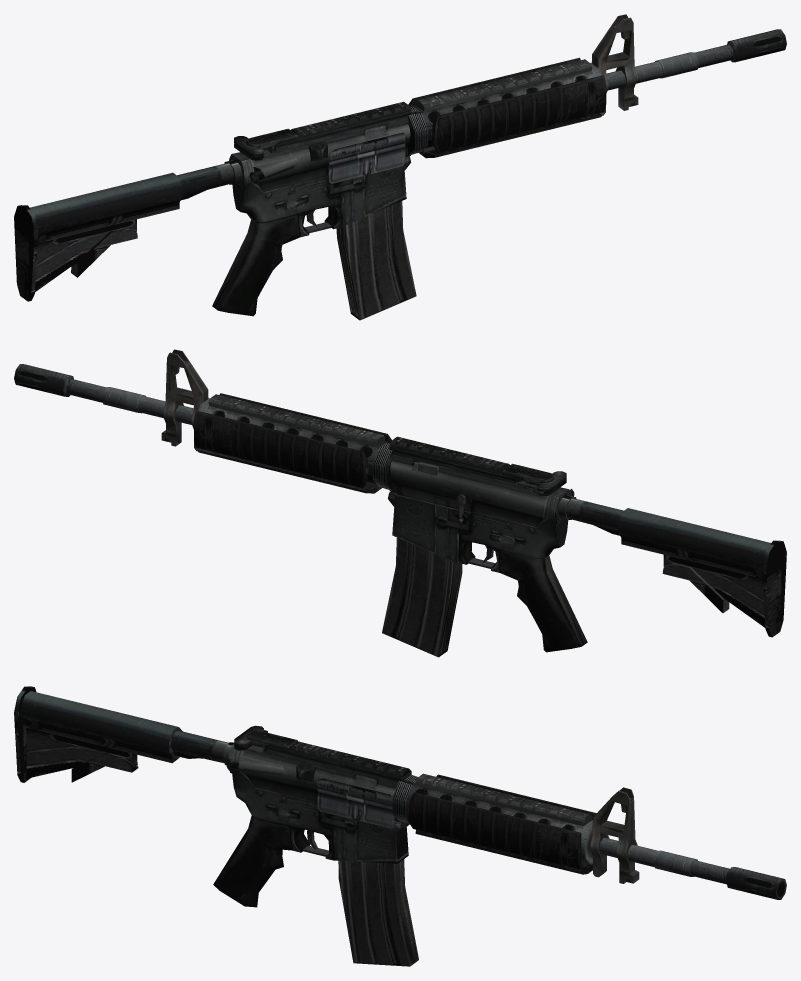
3 renders of one model, top to bottom at view 1: azimuth 30°, elevation 25°; view 2: azimuth 150°, elevation 25°; view 3: azimuth 330°, elevation 25°, orthographic.
Visible parts, largest first — view 1: body, barrel, stock, magazine; view 2: body, barrel, stock, magazine; view 3: body, barrel, stock, magazine.
Boxes of the visible parts, x1=… form: body: x1=212, y1=101, x2=411, y2=316; barrel: x1=405, y1=14, x2=786, y2=158; stock: x1=14, y1=160, x2=242, y2=301; magazine: x1=336, y1=201, x2=416, y2=320; body: x1=388, y1=436, x2=587, y2=652; barrel: x1=14, y1=349, x2=394, y2=493; stock: x1=558, y1=495, x2=786, y2=637; magazine: x1=382, y1=537, x2=462, y2=657; body: x1=213, y1=725, x2=411, y2=907; barrel: x1=392, y1=773, x2=786, y2=899; stock: x1=14, y1=686, x2=234, y2=782; magazine: x1=338, y1=859, x2=418, y2=966.
Bounding box in the file's own units: 0.7207 × 0.2149 × 0.0493.
4 materials, 4 textured.
